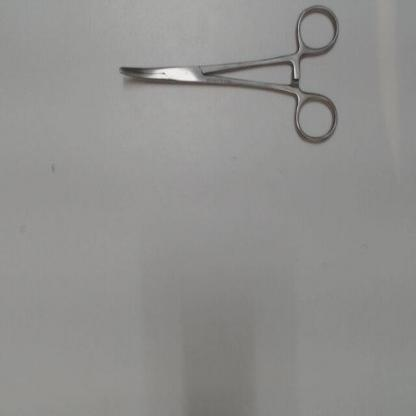Crile Artery Forceps: (111, 2, 347, 152)
